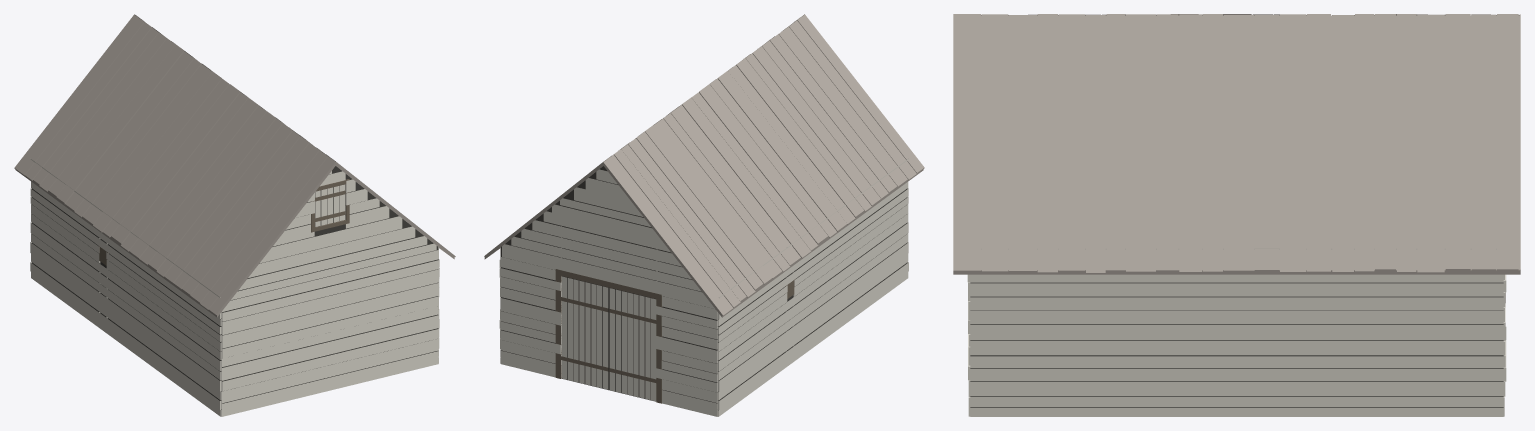
Rendered from recon_1835_south_a2_047__inferred_1835.glb.
The picture shows the model from 3 angles, left to right: view 1: azimuth 30°, elevation 25°; view 2: azimuth 150°, elevation 25°; view 3: azimuth 270°, elevation 25°; orthographic projection. The views are drawn at different scales.
Parts seen in each view (by area): view 1: recon_1835_south_a2_047__inferred_1835; view 2: recon_1835_south_a2_047__inferred_1835; view 3: recon_1835_south_a2_047__inferred_1835.
Part boxes in pixels (x1=…): recon_1835_south_a2_047__inferred_1835: x1=14, y1=14, x2=455, y2=416; recon_1835_south_a2_047__inferred_1835: x1=484, y1=14, x2=924, y2=416; recon_1835_south_a2_047__inferred_1835: x1=953, y1=14, x2=1520, y2=416.
Size of the model in its own units: 7.31 by 6.77 by 10.61.
